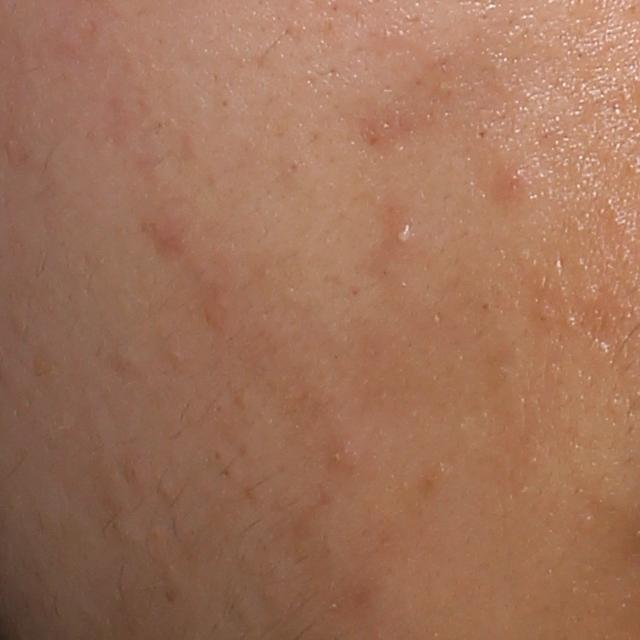papule: (488, 162, 537, 202)
pustule: (388, 222, 417, 247)
